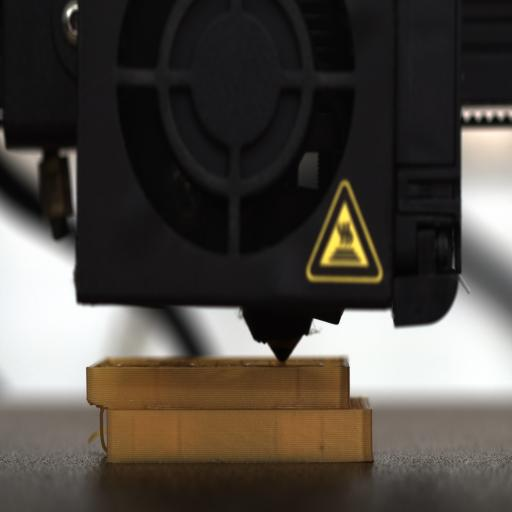layer_shift: (88, 392, 374, 422)
